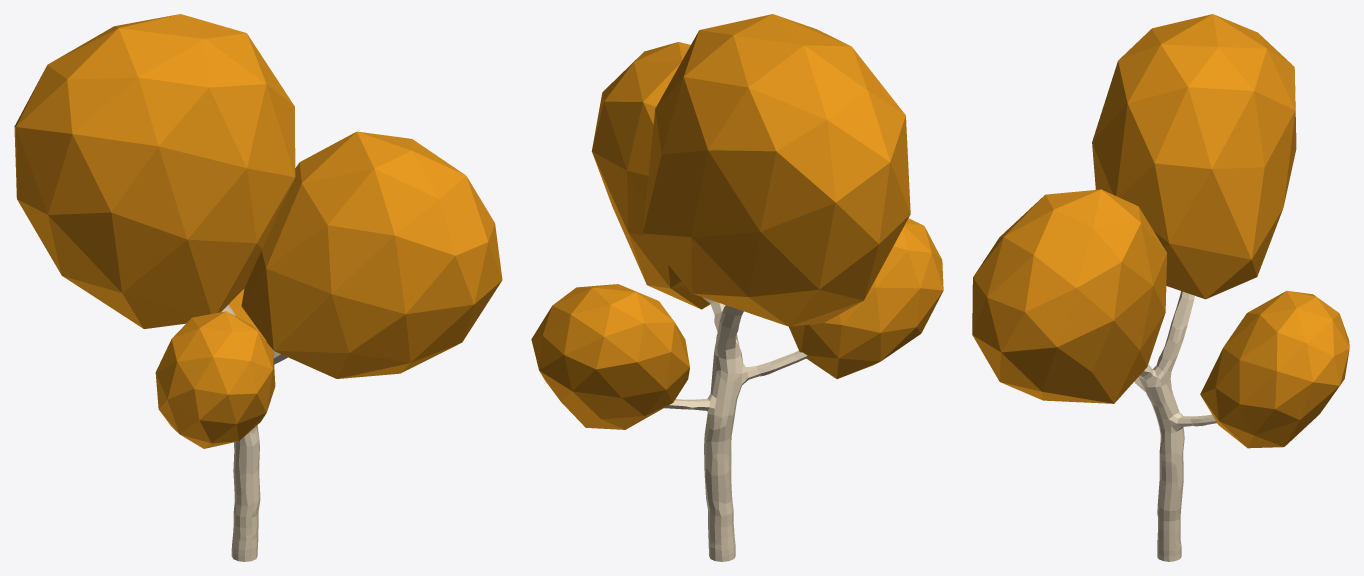
Rendered from Oak1.fbx.
3 views of the same model, side by side, from view 1: azimuth 30°, elevation 25°; view 2: azimuth 150°, elevation 25°; view 3: azimuth 270°, elevation 25° (orthographic). The views are drawn at different scales.
Visible parts, largest first — view 1: Circle.001; view 2: Circle.001; view 3: Circle.001.
Boxes of the visible parts, bbox=[...] form: Circle.001: bbox=[14, 14, 502, 550]; Circle.001: bbox=[531, 14, 943, 550]; Circle.001: bbox=[972, 14, 1349, 551].
Bounding box in the file's own units: 4567 × 6235 × 4297.
